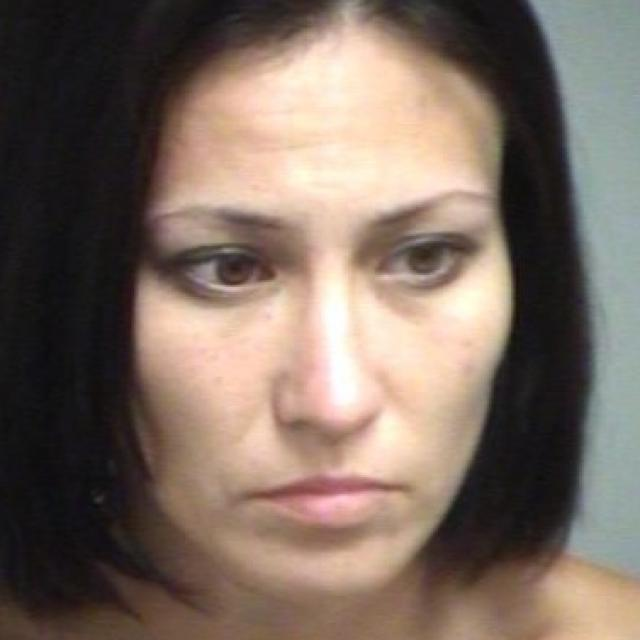Depress: (129, 27, 518, 603)
